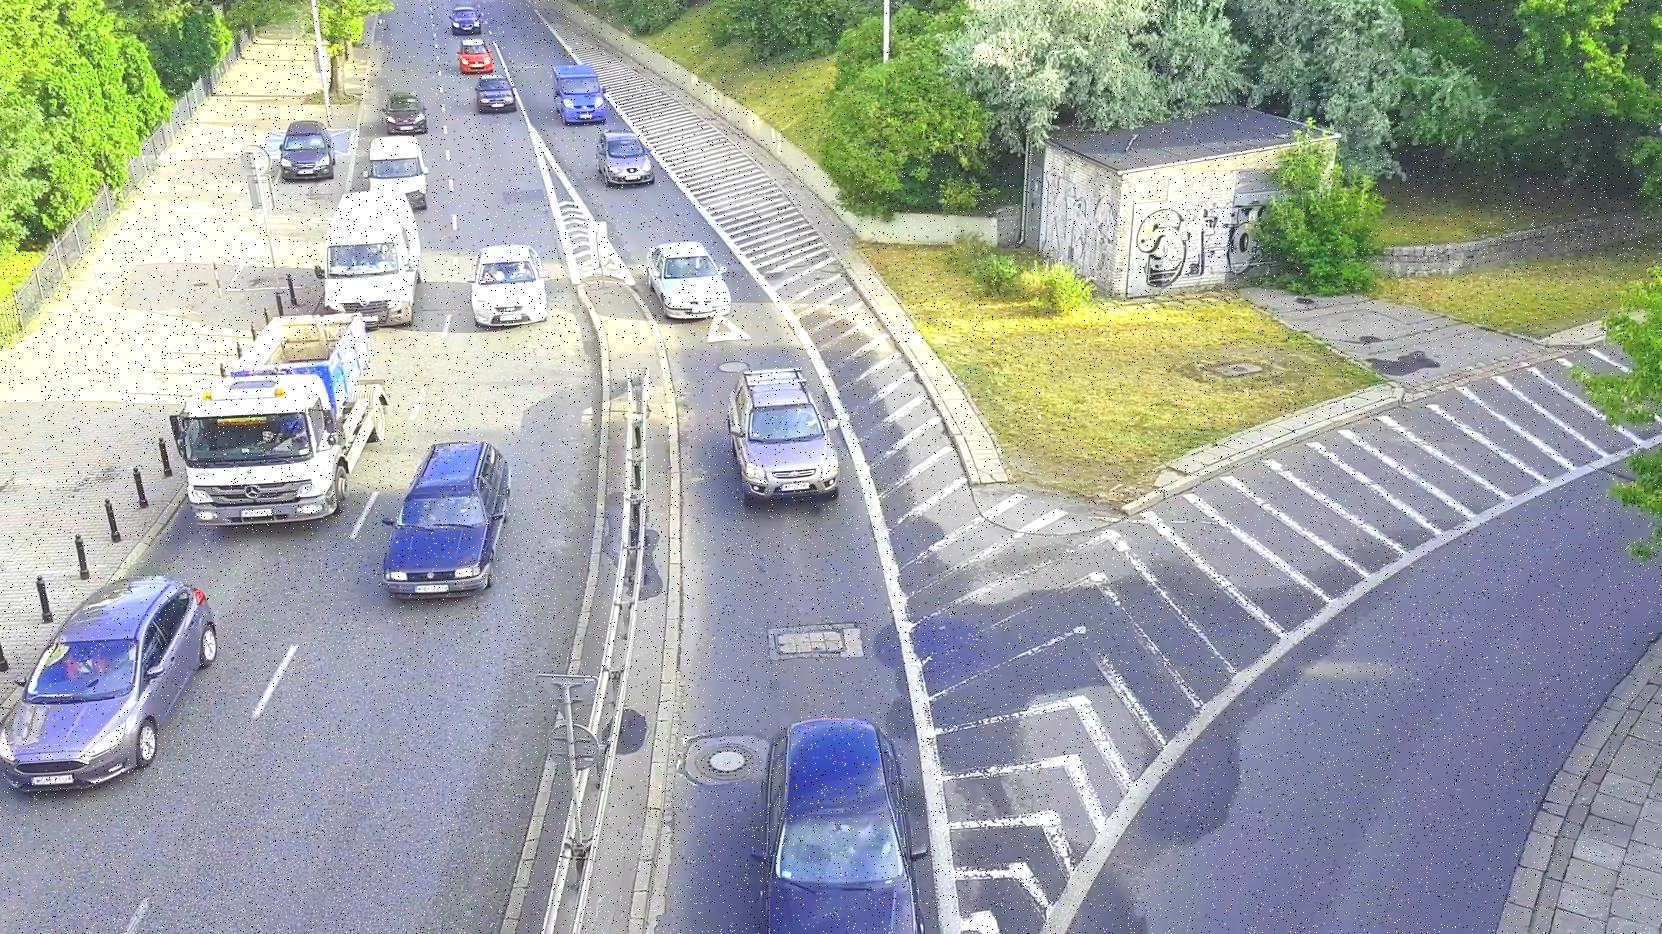bus: (1, 570, 224, 790)
car: (755, 720, 931, 934), (373, 436, 527, 588), (715, 361, 864, 504), (320, 176, 418, 337), (638, 235, 736, 324), (471, 239, 546, 328), (584, 114, 657, 198), (549, 48, 614, 137), (364, 126, 433, 198), (277, 113, 340, 183), (470, 69, 524, 116), (453, 34, 501, 78)
truck: (179, 299, 396, 534)
